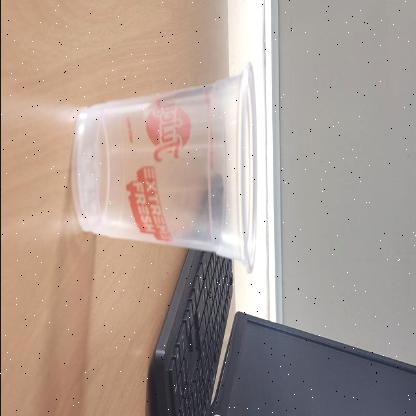Others: (70, 62, 258, 280)
